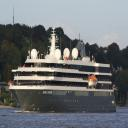cruises: (9, 28, 120, 115)
